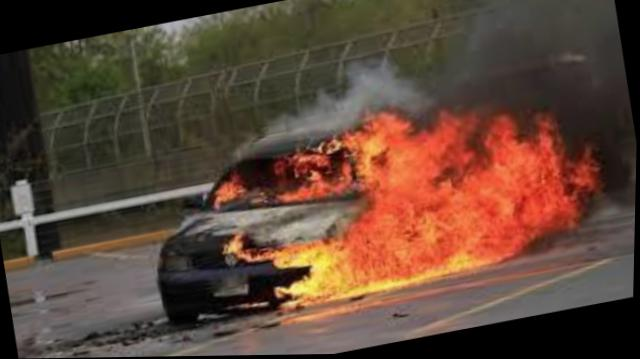fire: (248, 62, 601, 323)
